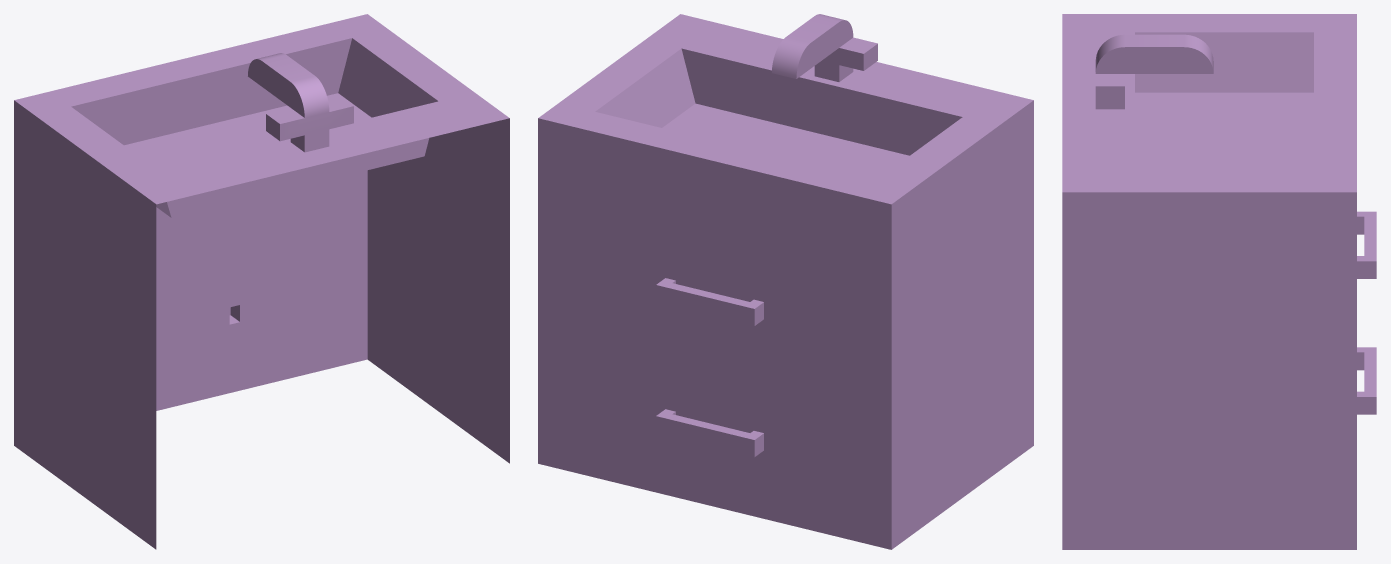
The model's file is SM_ FE_Props_Bathroom Cabinet01.fbx.
3 views of the same model, side by side, from view 1: azimuth 30°, elevation 25°; view 2: azimuth 150°, elevation 25°; view 3: azimuth 270°, elevation 25° (orthographic). The views are drawn at different scales.
Visible parts, largest first — view 1: SM_ FE_Props_Bathroom Cabinet01; view 2: SM_ FE_Props_Bathroom Cabinet01; view 3: SM_ FE_Props_Bathroom Cabinet01.
Part boxes in pixels (box(x1,y1,x2,y2)): SM_ FE_Props_Bathroom Cabinet01: box(14, 14, 509, 549); SM_ FE_Props_Bathroom Cabinet01: box(538, 14, 1033, 549); SM_ FE_Props_Bathroom Cabinet01: box(1062, 14, 1376, 549).
Bounding box in the file's own units: 43 × 47.18 × 32.
